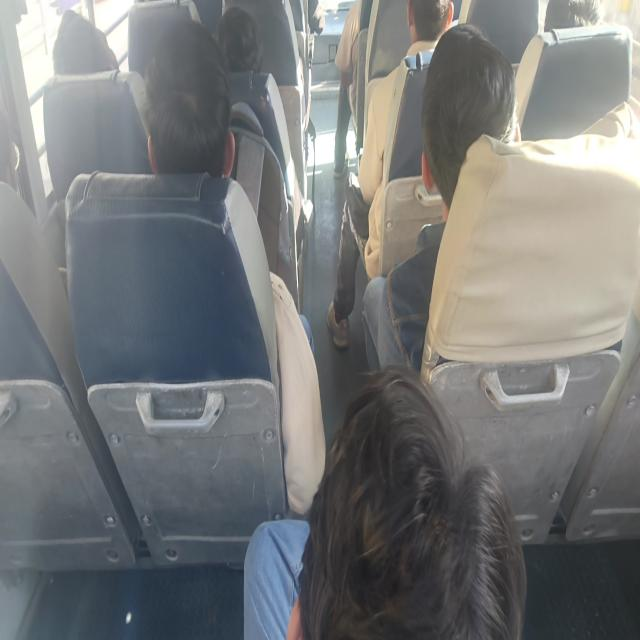person: (304, 371, 520, 640), (420, 45, 510, 212), (144, 43, 240, 191), (38, 0, 126, 94), (395, 0, 468, 59), (212, 4, 268, 80), (533, 0, 609, 41)
